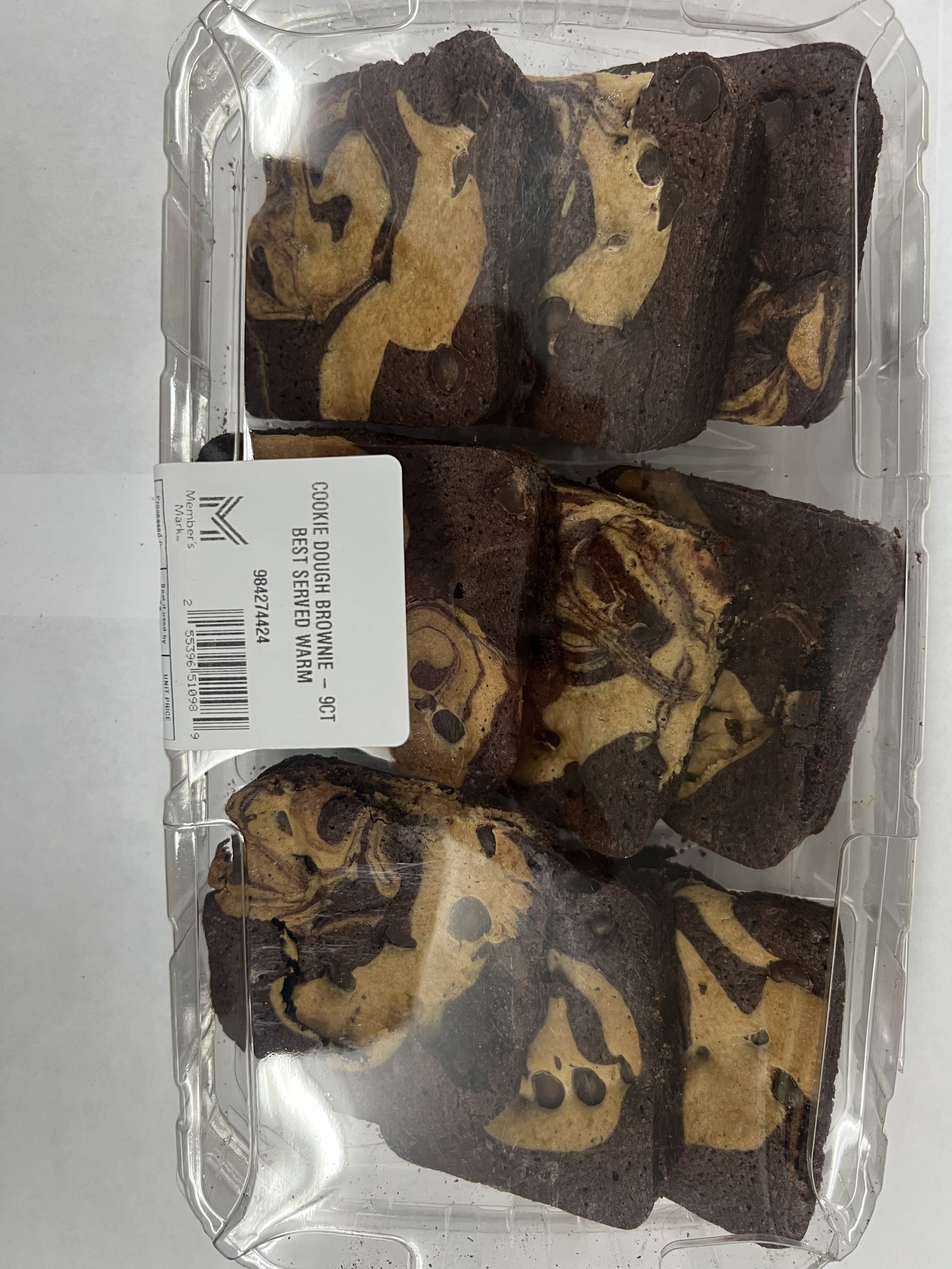bakery: (149, 36, 931, 1264)
